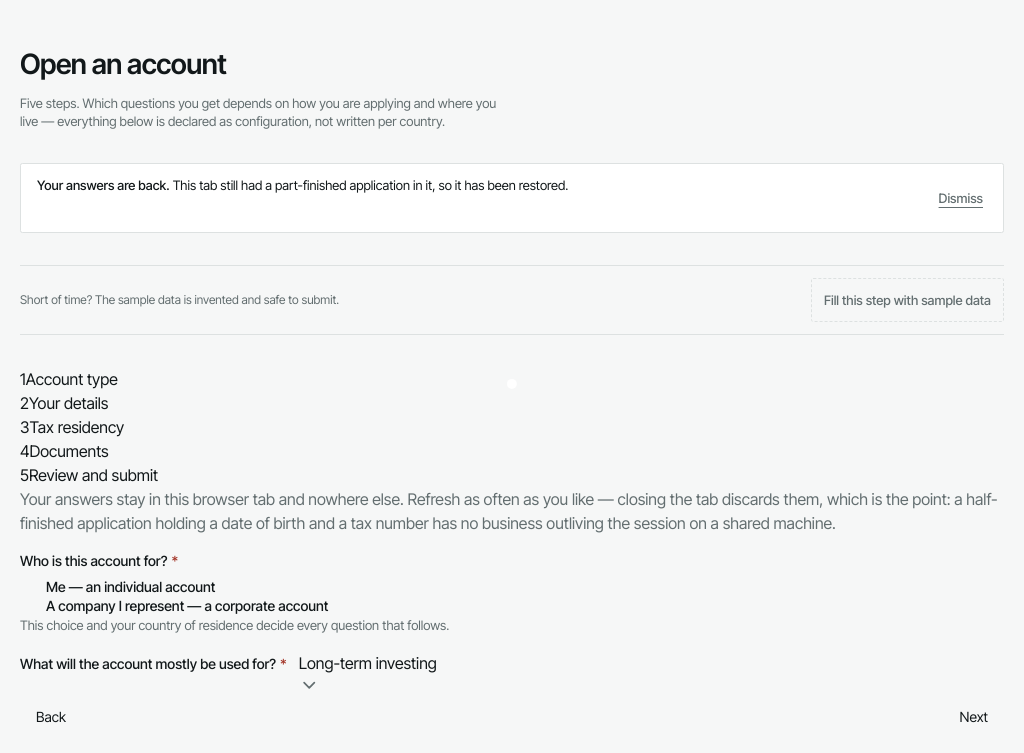
Test: ApplicationShell › drops the resumed notice once the visitor moves past where the draft left them
The width and height of the screenshot is (1024, 753).
Check: the text "Your answers are back." is shown, box [37,177,170,193]
Click the button "Next": click(974, 717) [944,695,1004,739]
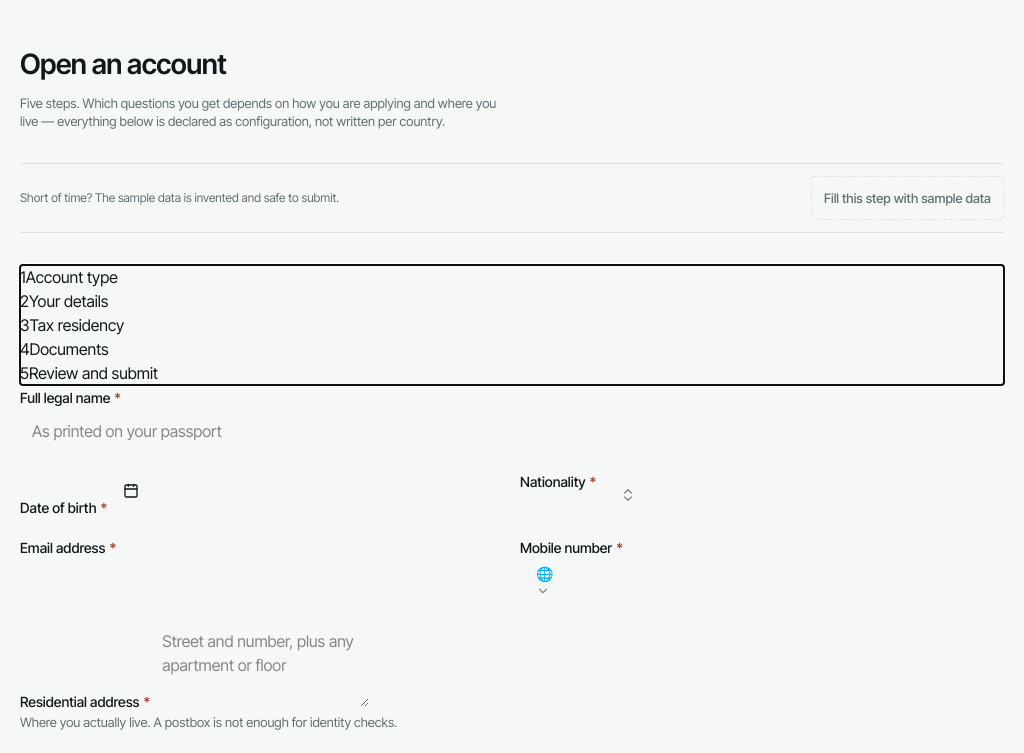
Check: the text "Your answers are back" is gone
